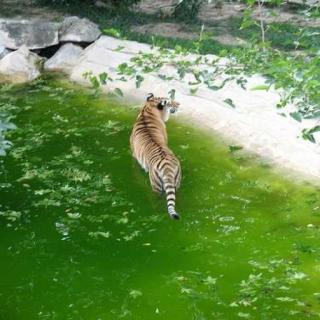Tiger: (120, 87, 196, 222)
